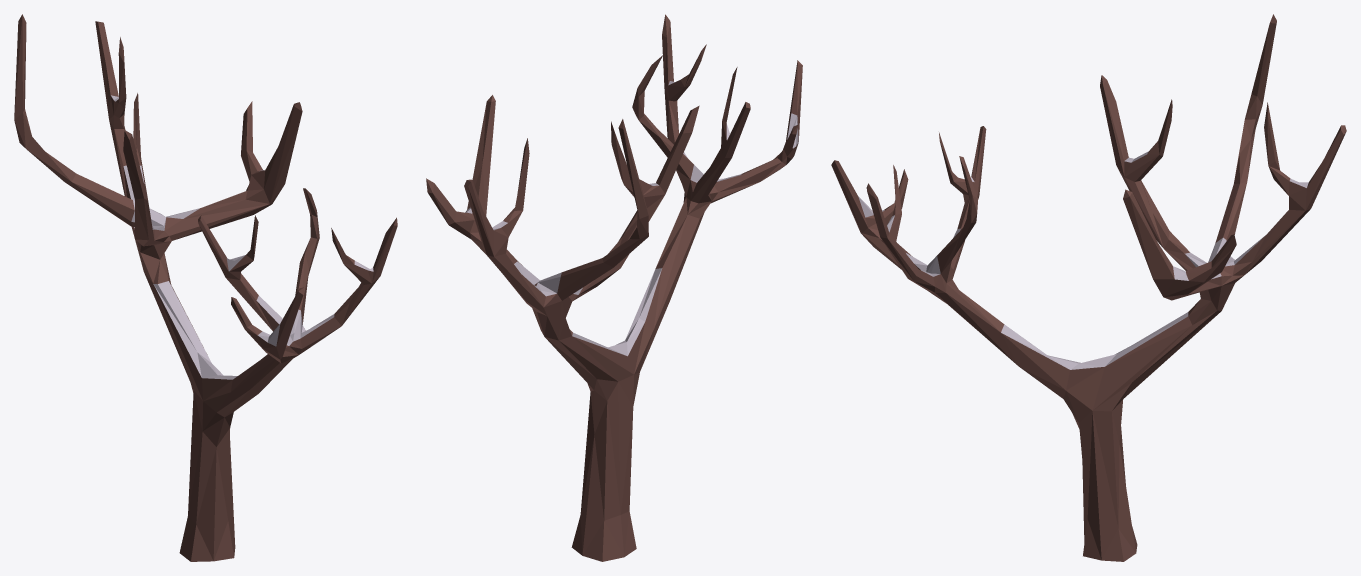
The model's file is CommonTree_Dead_Snow_1.lod2.glb.
3 renders of one model, left to right at view 1: azimuth 30°, elevation 25°; view 2: azimuth 150°, elevation 25°; view 3: azimuth 270°, elevation 25°, orthographic. The views are drawn at different scales.
Visible parts, largest first — view 1: CommonTree_Dead_Snow_1; view 2: CommonTree_Dead_Snow_1; view 3: CommonTree_Dead_Snow_1.
Part boxes in pixels (left/top/right/bottom): CommonTree_Dead_Snow_1: left=14, top=14, right=397, bottom=561; CommonTree_Dead_Snow_1: left=426, top=14, right=802, bottom=561; CommonTree_Dead_Snow_1: left=831, top=14, right=1346, bottom=561.
Size of the model in its own units: 1.05 by 2.22 by 2.12.
